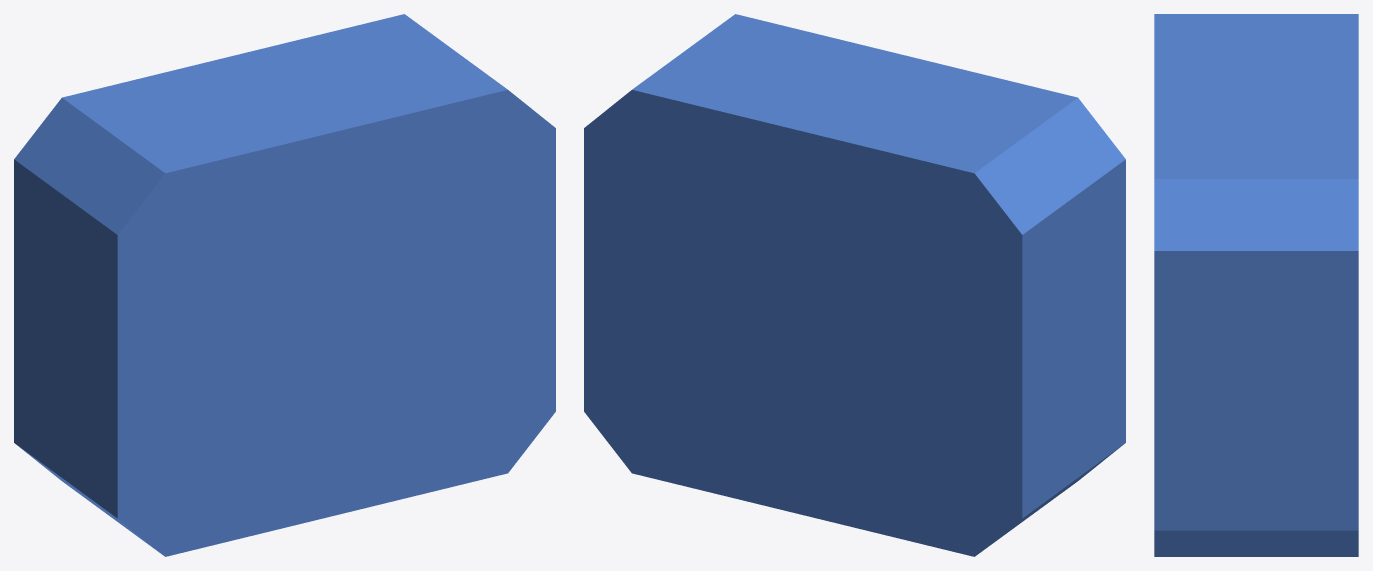
Rendered from four_piston_radial_lod2.glb.
The picture shows the model from 3 angles, left to right: view 1: azimuth 30°, elevation 25°; view 2: azimuth 150°, elevation 25°; view 3: azimuth 270°, elevation 25°; orthographic projection.
Visible parts, largest first — view 1: four_piston_radial_lod2; view 2: four_piston_radial_lod2; view 3: four_piston_radial_lod2.
Part boxes in pixels (<box>): four_piston_radial_lod2: <box>14,14,555,556</box>; four_piston_radial_lod2: <box>584,14,1125,556</box>; four_piston_radial_lod2: <box>1154,14,1358,556</box>.
Size of the model in its own units: 0.11 by 0.092 by 0.045.
